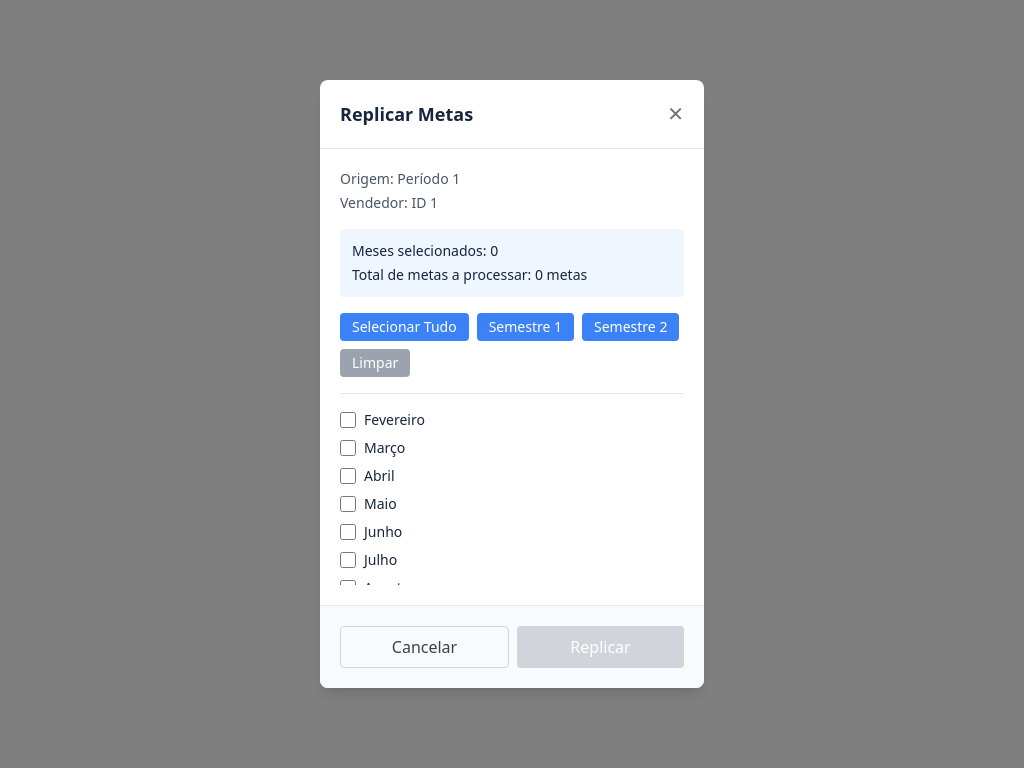
Test: ReplicarMetasModal › seleciona apenas Semestre 1 (Fevereiro a Junho)
Click the button "Semestre 1" at coordinates (525, 327), box 477,313 -> 574,341
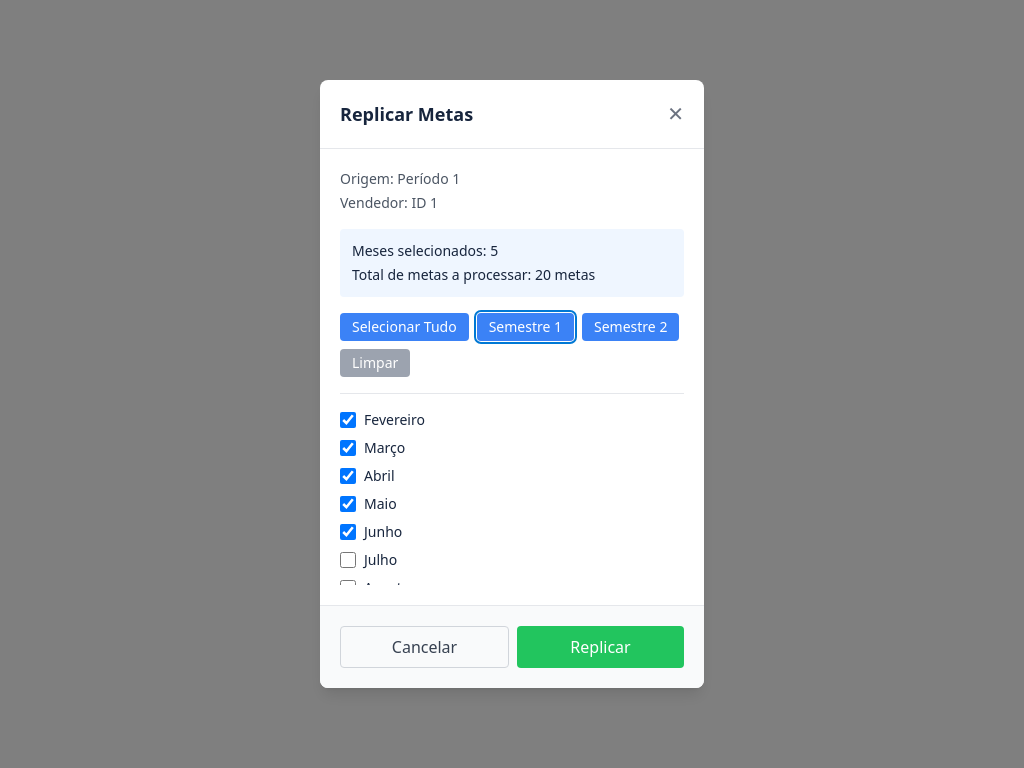
Expected: the checkbox labelled "Julho" is not checked, 340,552 -> 356,568
Expected: the checkbox labelled "Fevereiro" is checked, 340,412 -> 356,428
Expected: the checkbox labelled "Junho" is checked, 340,524 -> 356,540
